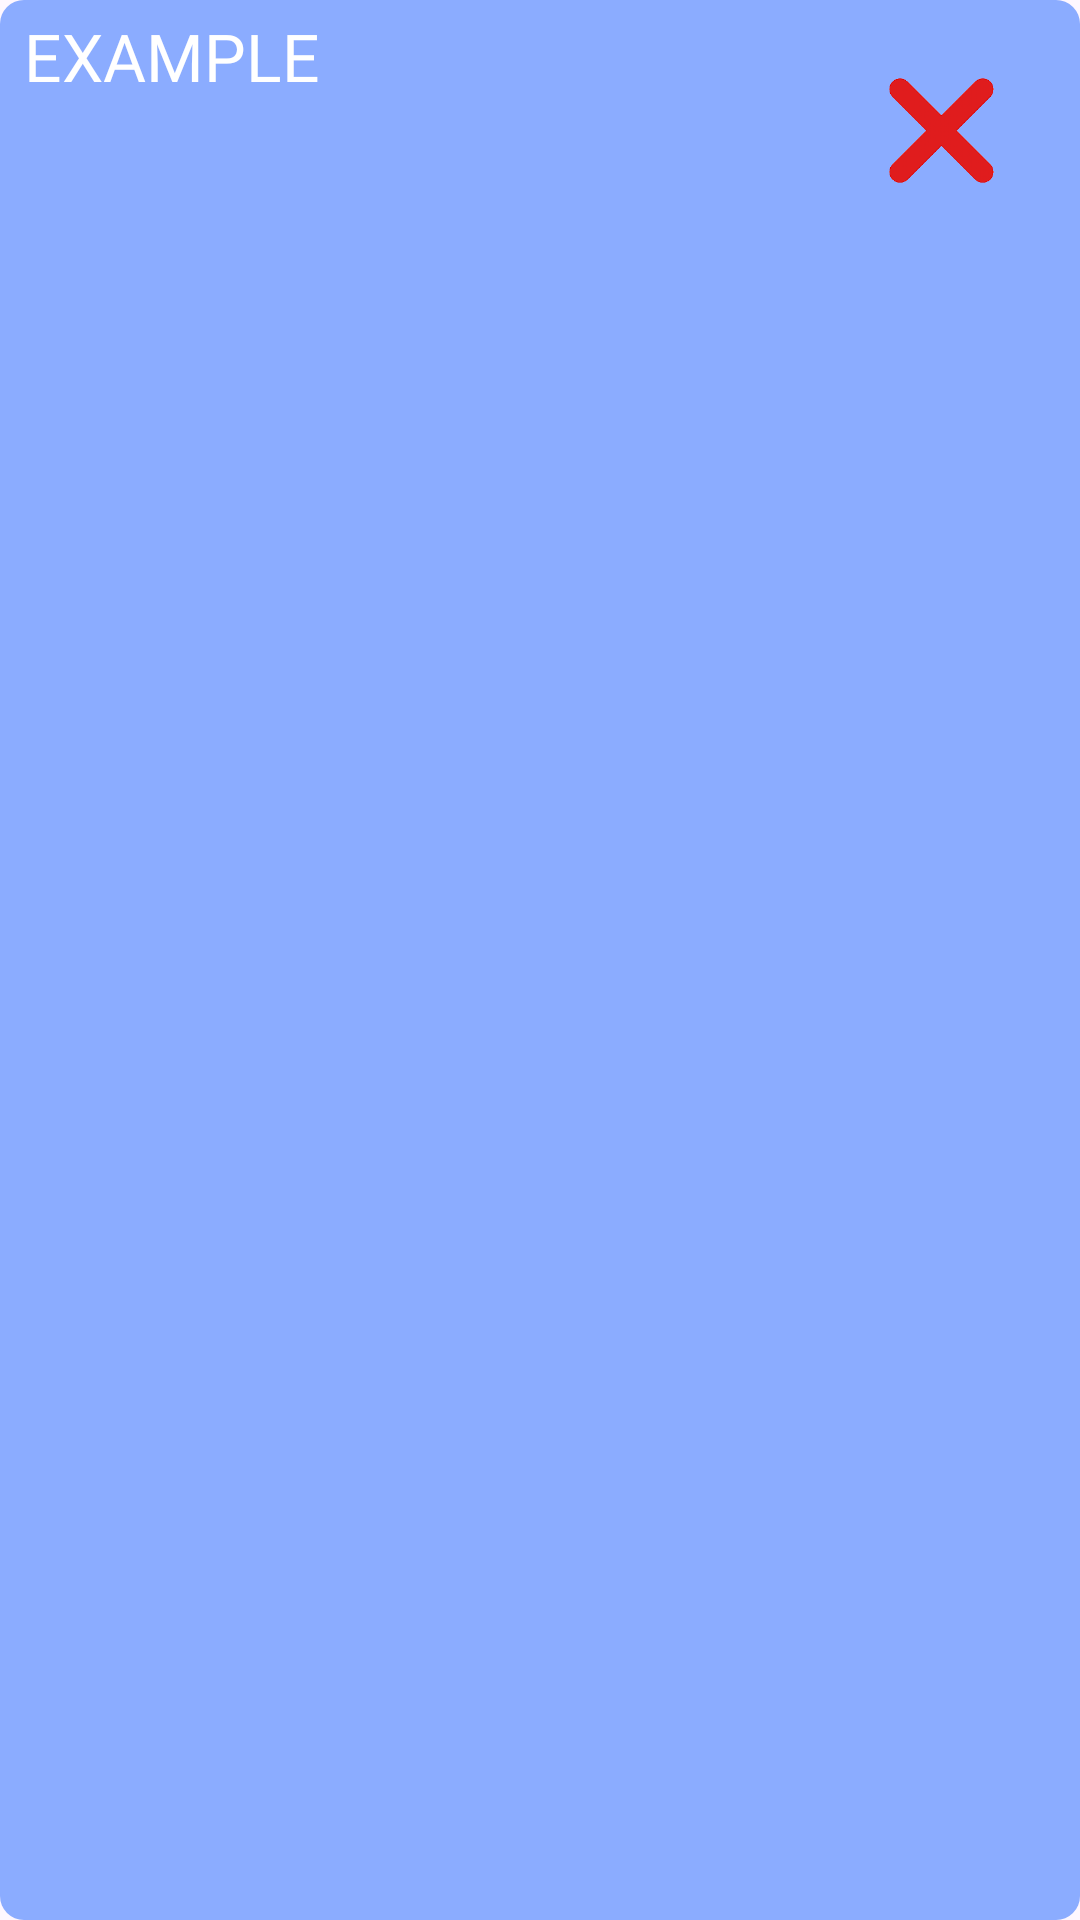

Screen size 1080px x 1920px. Icon name, then its center in pixels as [x,y]:
wrong answer: [984,91]
